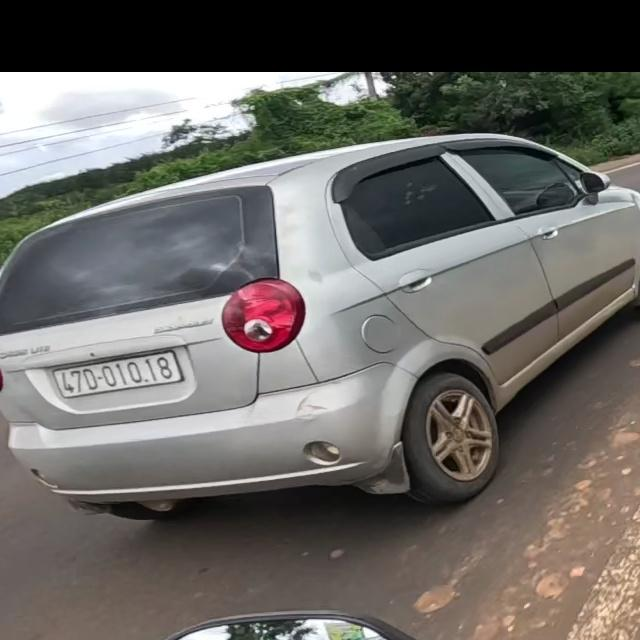license-plate: (52, 350, 184, 398)
